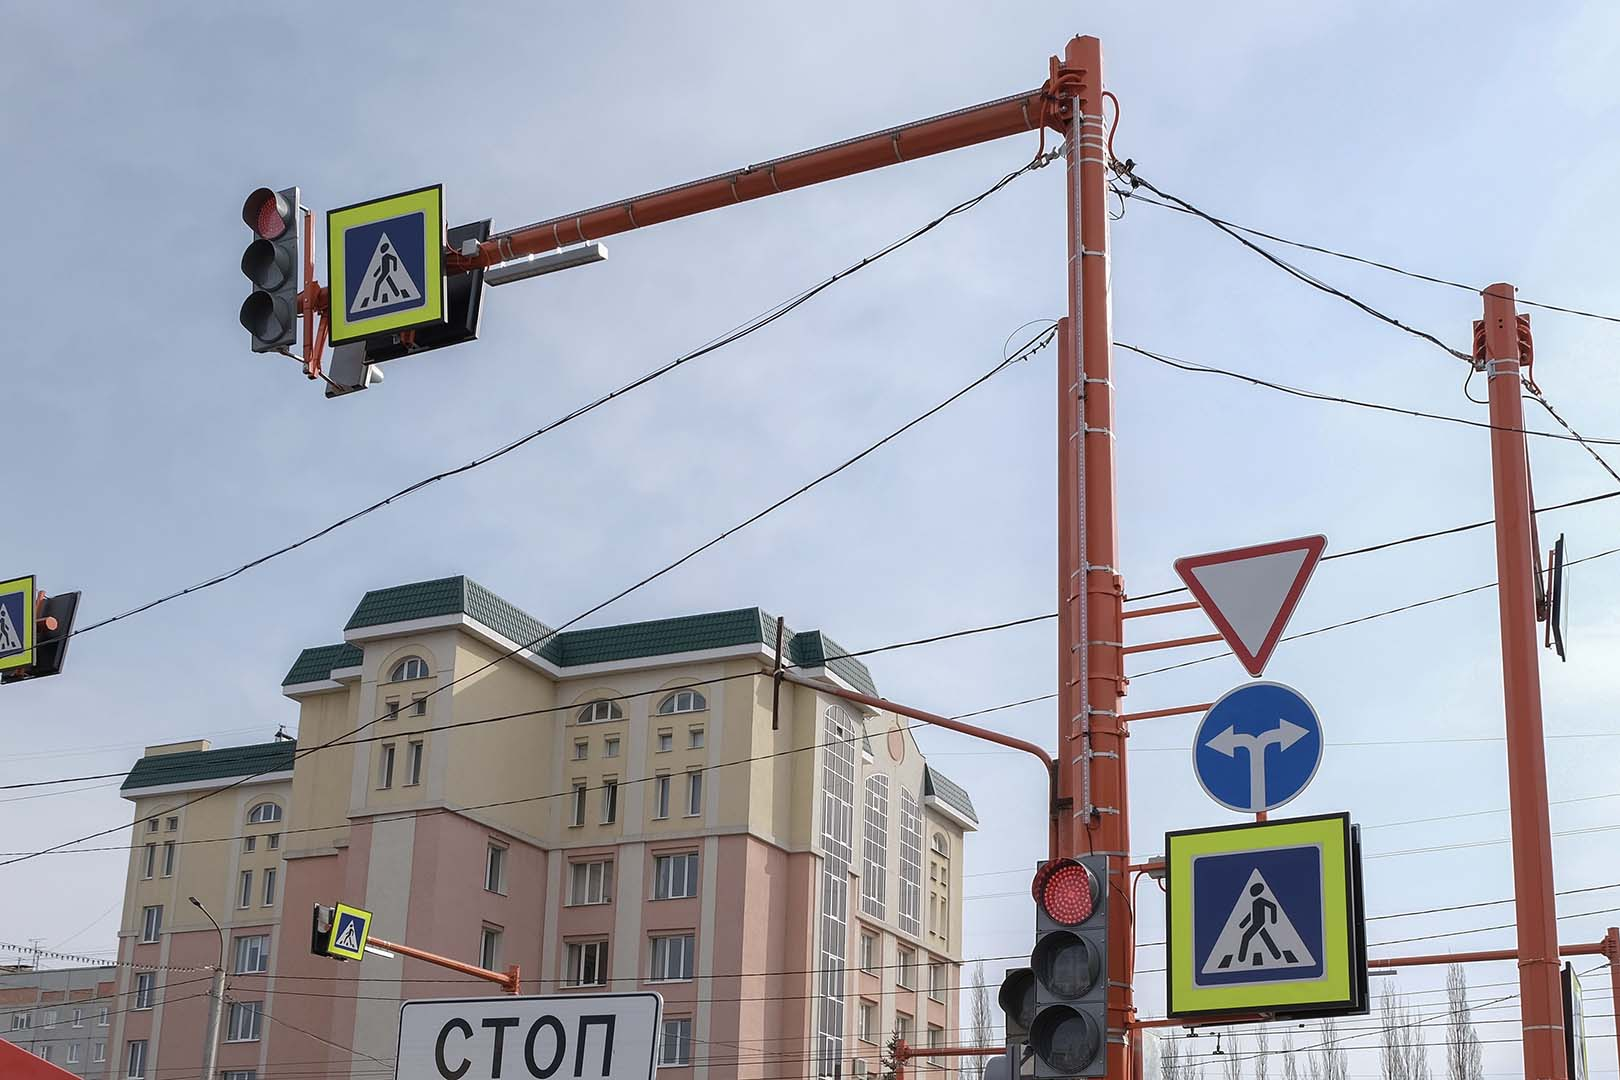tl: (1026, 849, 1129, 1074), (231, 182, 315, 354)
